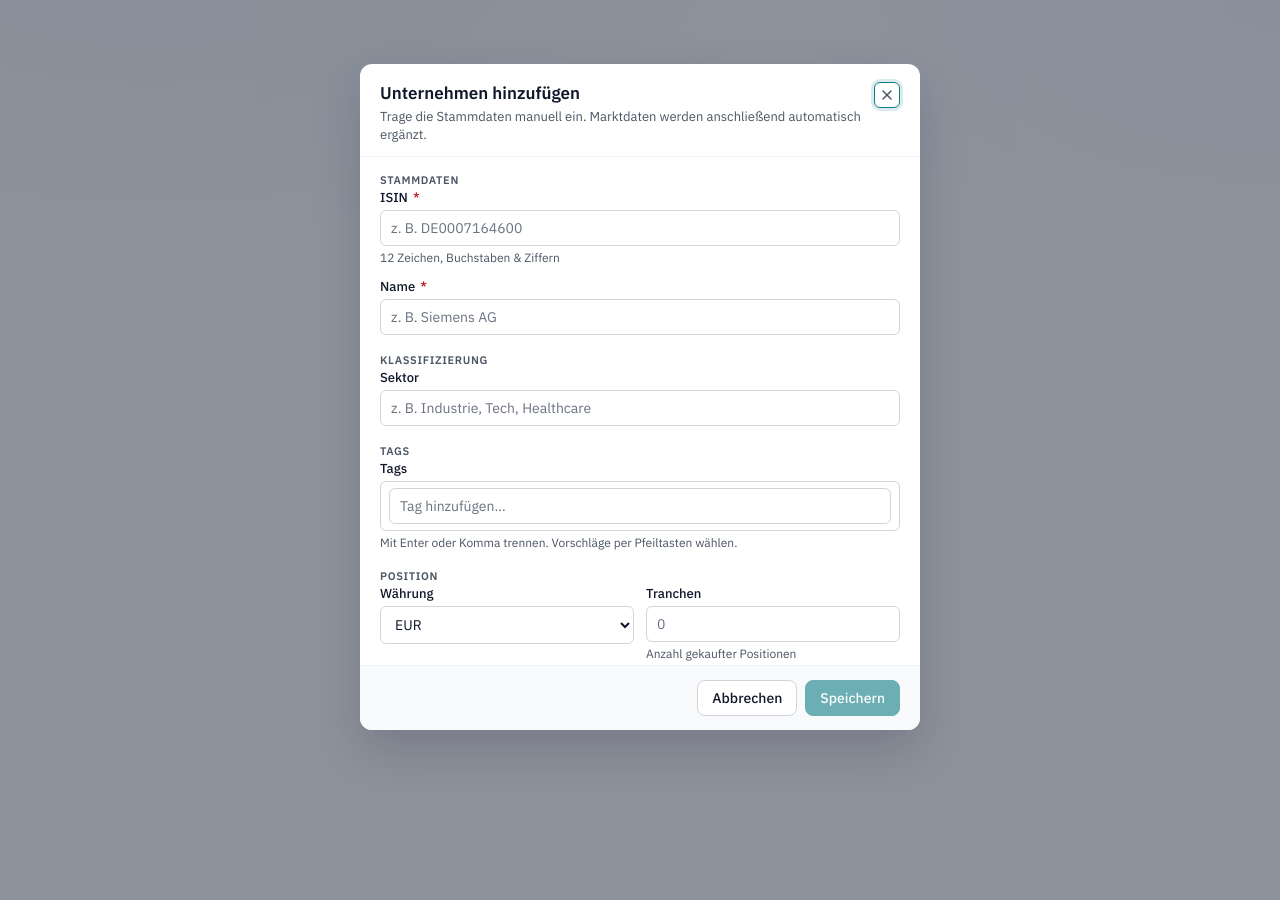
Scenario: CreateStockModal › passes sector suggestions to the sector input field
# Focus the sector input to trigger the dropdown
Focus the field with placeholder "z. B. Industrie, Tech, Healthcare" at [640, 408], box 380,390 -> 900,426
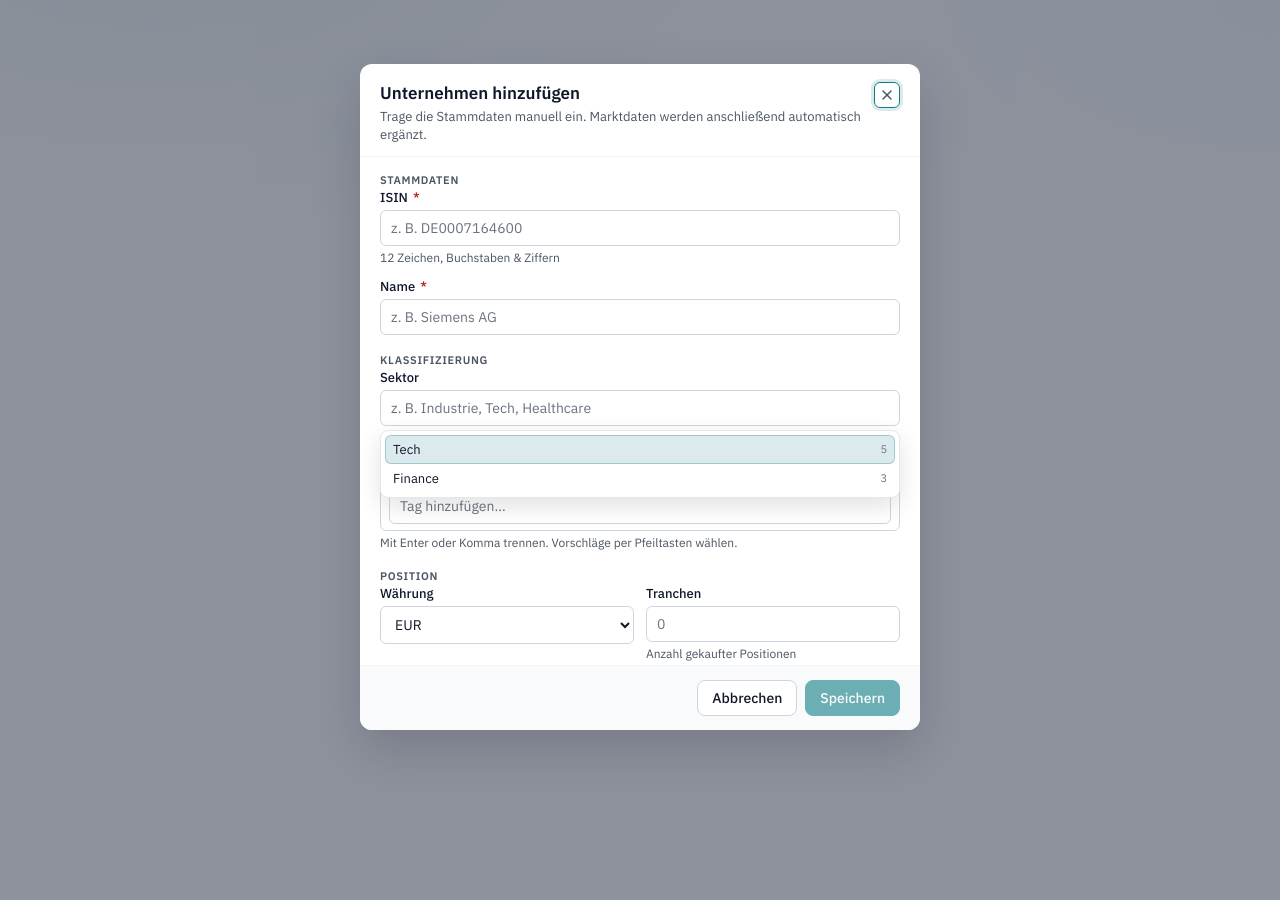
Now the text "Tech" is shown, box 393,441 -> 421,458
Now the text "Finance" is shown, box 393,470 -> 439,487
